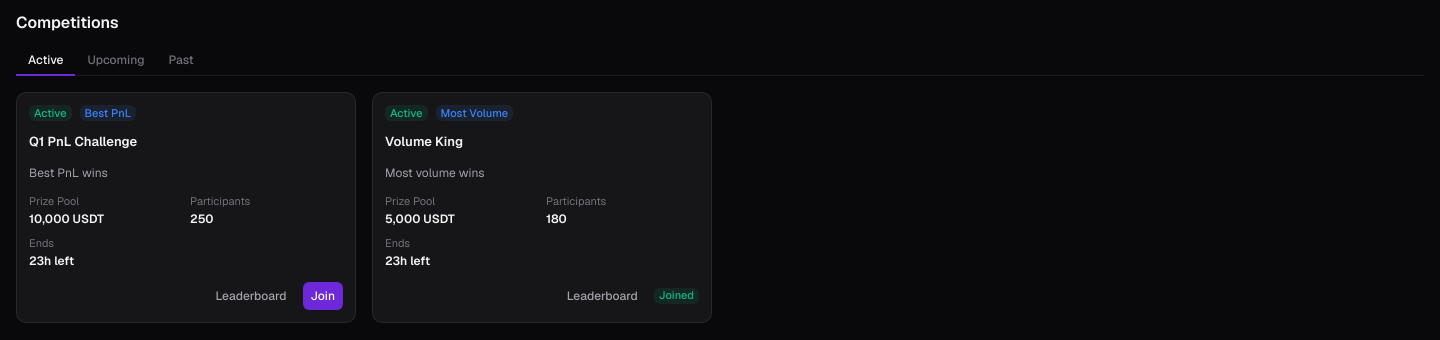
Test: CompetitionsPage › Upcoming tab shows no results when no upcoming competitions
This screenshot has width=1440, height=340.
Expected: the heading "Q1 PnL Challenge" is shown, 29,133 -> 137,150
Step 1. Click the tab "Upcoming" → click(116, 61), box 76,46 -> 156,76
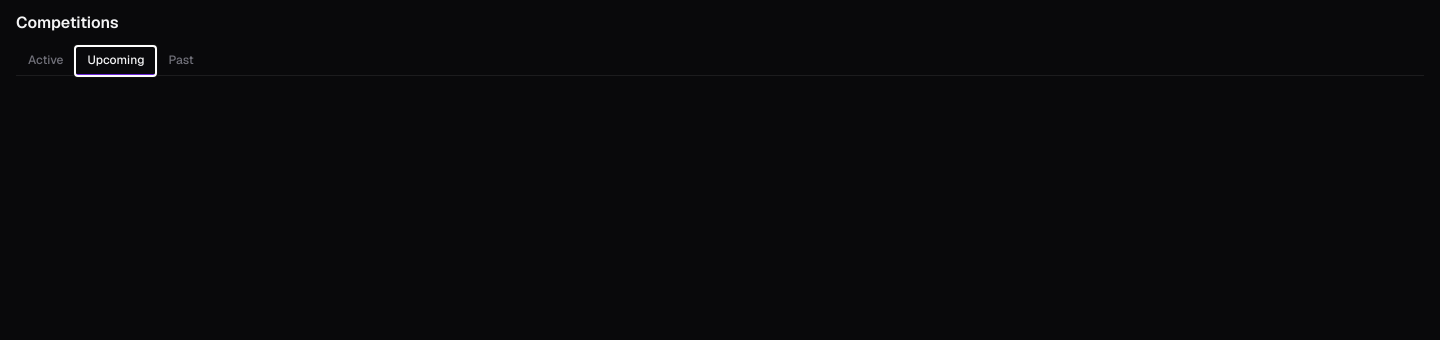
Expected: the heading "Q1 PnL Challenge" is gone
